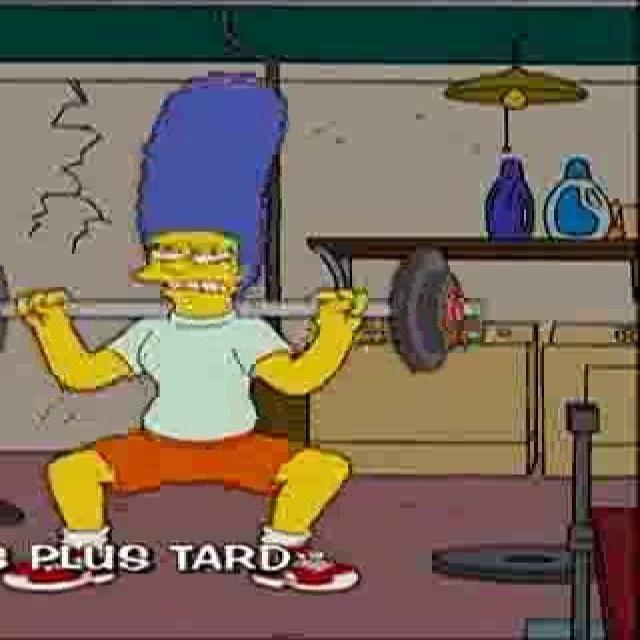Marge Simpson: (123, 77, 289, 320)
